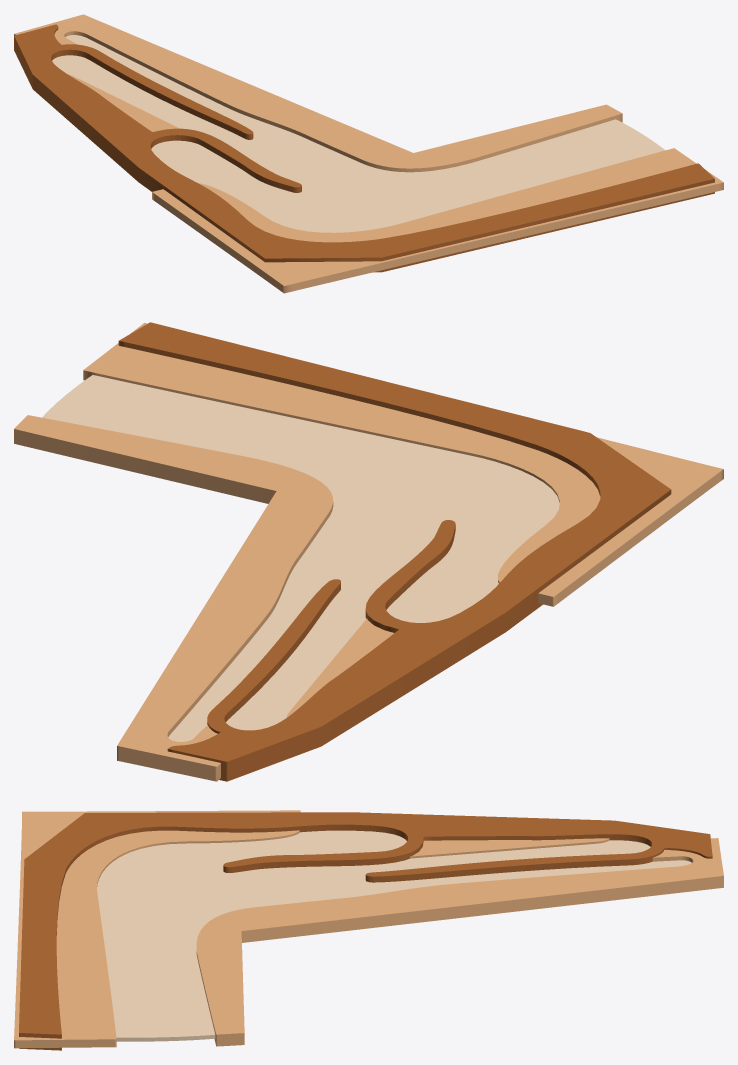
The model's file is emoji_u1faf7_1f3fb.glb.
3 renders of one model, top to bottom at view 1: azimuth 30°, elevation 25°; view 2: azimuth 150°, elevation 25°; view 3: azimuth 270°, elevation 25°, orthographic. The views are drawn at different scales.
Visible parts, largest first — view 1: emoji_u1faf7_1f3fb; view 2: emoji_u1faf7_1f3fb; view 3: emoji_u1faf7_1f3fb.
Boxes of the visible parts, box(x1,y1,x2,y2) form: emoji_u1faf7_1f3fb: box(14, 14, 723, 293); emoji_u1faf7_1f3fb: box(14, 322, 723, 781); emoji_u1faf7_1f3fb: box(14, 810, 723, 1050).
Bounding box in the file's own units: 0.0248 × 0.0008 × 0.0324.
